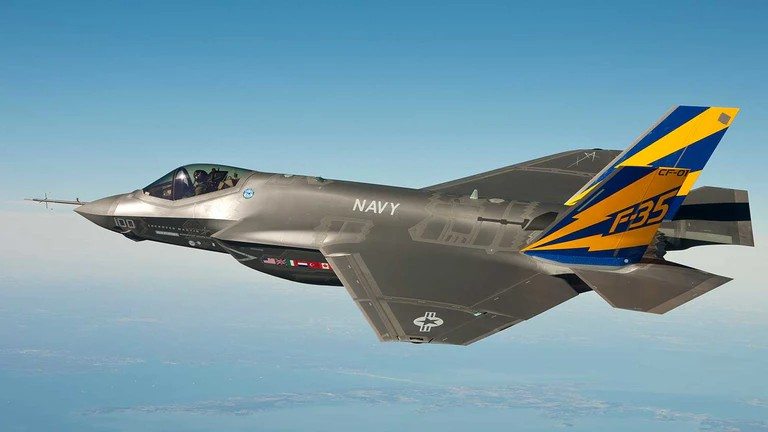F-35 Lightning: (16, 96, 760, 355)
